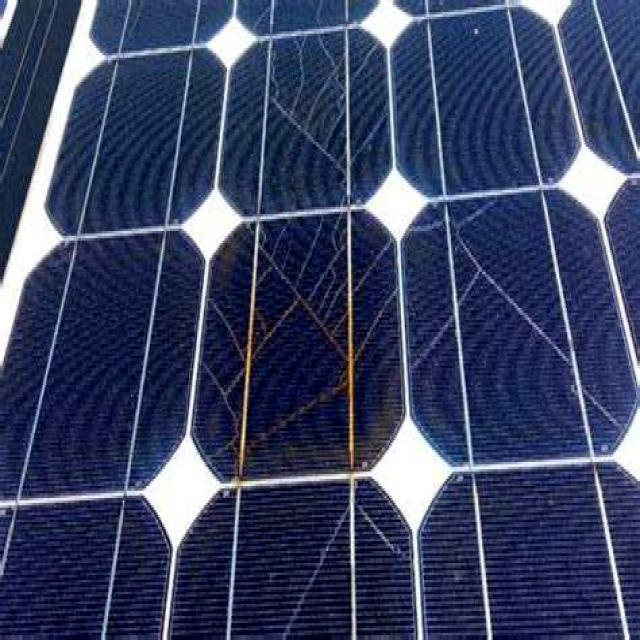shadow: (210, 261, 404, 484)
